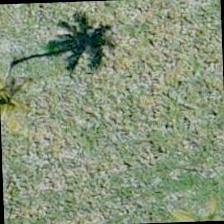Kelapa_Sawit: (0, 32, 54, 125), (176, 158, 223, 222)
